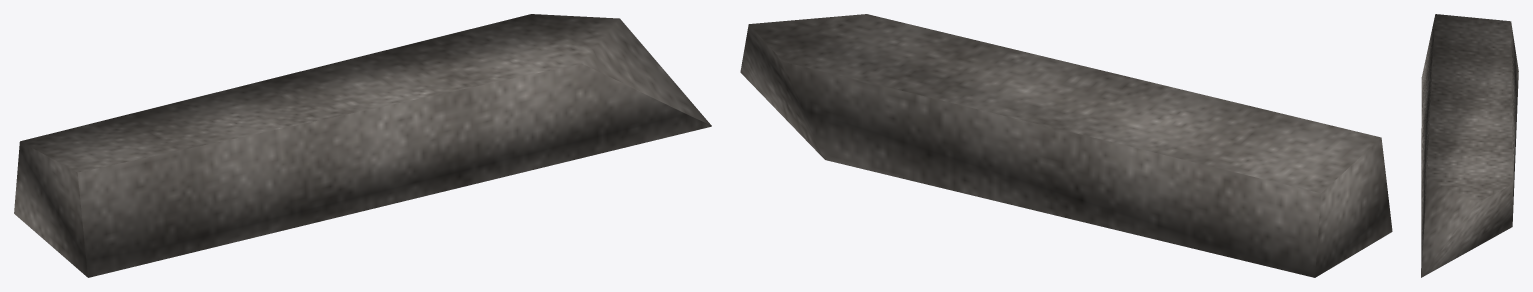
The model's file is cliff_strata_2.glb.
The picture shows the model from 3 angles, left to right: view 1: azimuth 30°, elevation 25°; view 2: azimuth 150°, elevation 25°; view 3: azimuth 270°, elevation 25°; orthographic projection. The views are drawn at different scales.
Visible parts, largest first — view 1: cliff_strata_2; view 2: cliff_strata_2; view 3: cliff_strata_2.
Boxes of the visible parts, <box> form: cliff_strata_2: <box>14,14,711,277</box>; cliff_strata_2: <box>740,14,1392,277</box>; cliff_strata_2: <box>1421,14,1518,277</box>.
Bounding box in the file's own units: 10.86 × 1.63 × 2.25.
Materials: 1 (1 with a texture image).
